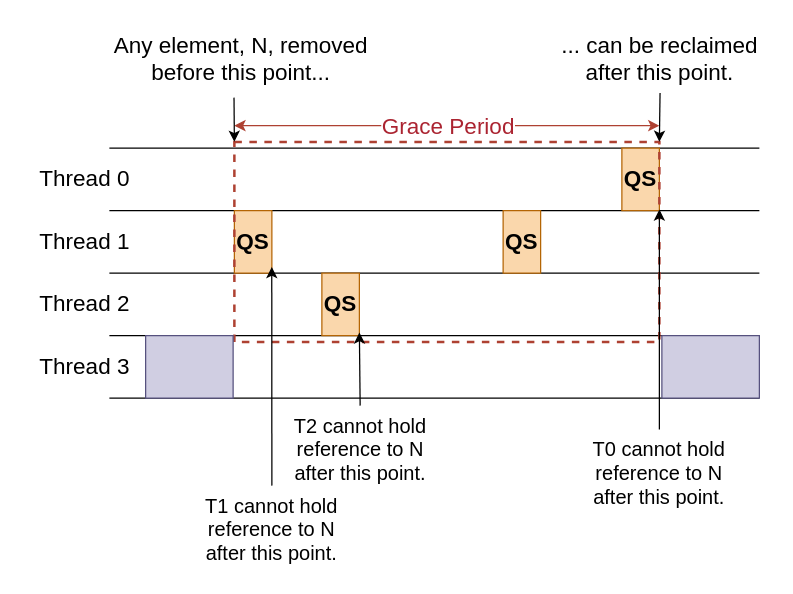
Some shapes in this 793 by 594 pixel diagram are drawn without their labels. Each missing label, with the box of its shape:
reclamation phase: (661, 334, 759, 398)
removal phase: (144, 334, 233, 398)
